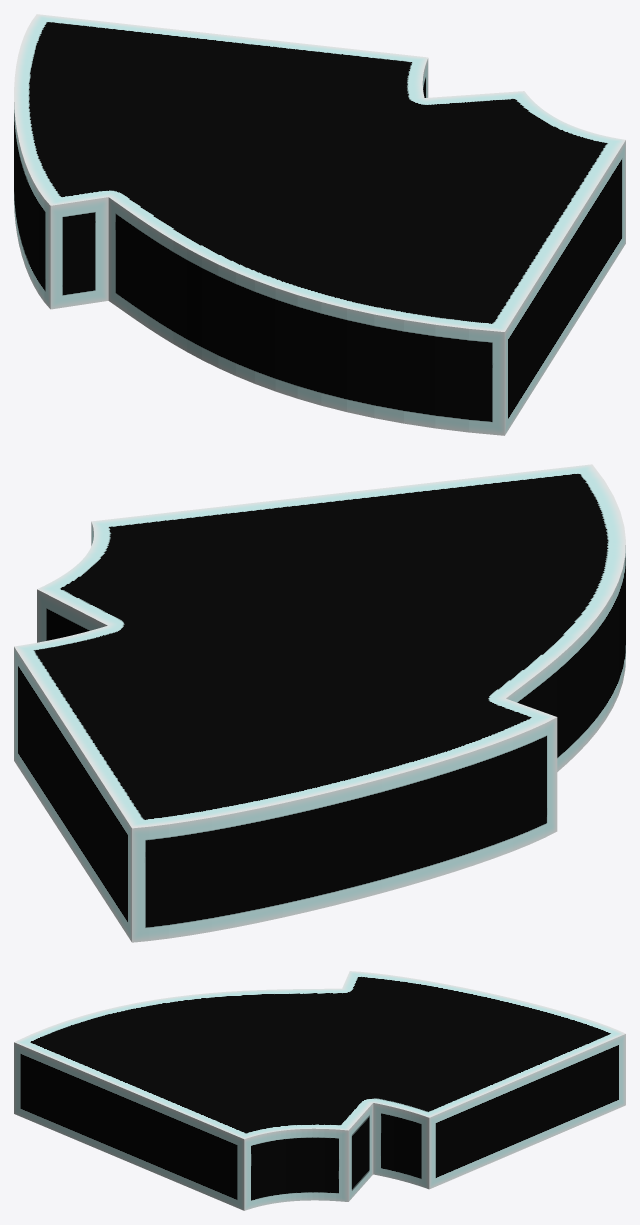
The model's file is SegmentumObscurus.obj.
3 views of the same model, one above another, from view 1: azimuth 30°, elevation 25°; view 2: azimuth 150°, elevation 25°; view 3: azimuth 270°, elevation 25° (orthographic). The views are drawn at different scales.
Visible parts, largest first — view 1: SegmentumObscurus; view 2: SegmentumObscurus; view 3: SegmentumObscurus.
Part boxes in pixels (x1=…): SegmentumObscurus: x1=14, y1=14, x2=625, y2=435; SegmentumObscurus: x1=14, y1=464, x2=625, y2=942; SegmentumObscurus: x1=14, y1=971, x2=625, y2=1210.
Size of the model in its own units: 3.53 by 0.7 by 5.42.
1 material, 1 textured.
